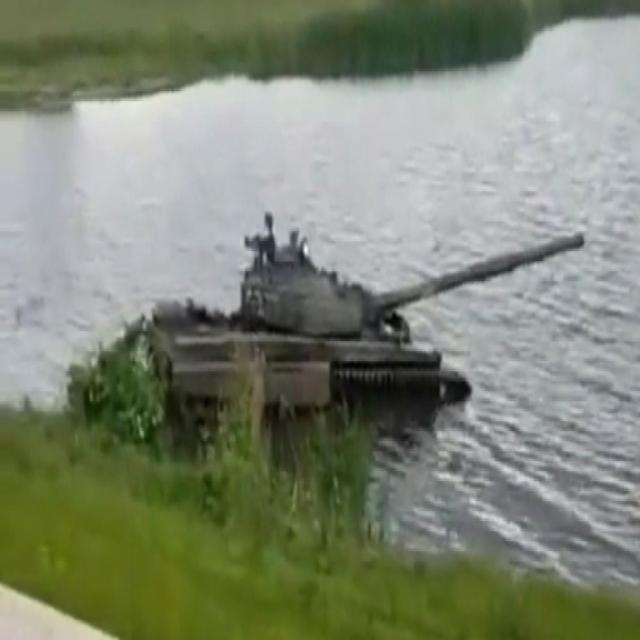TANK: (146, 227, 585, 460)
